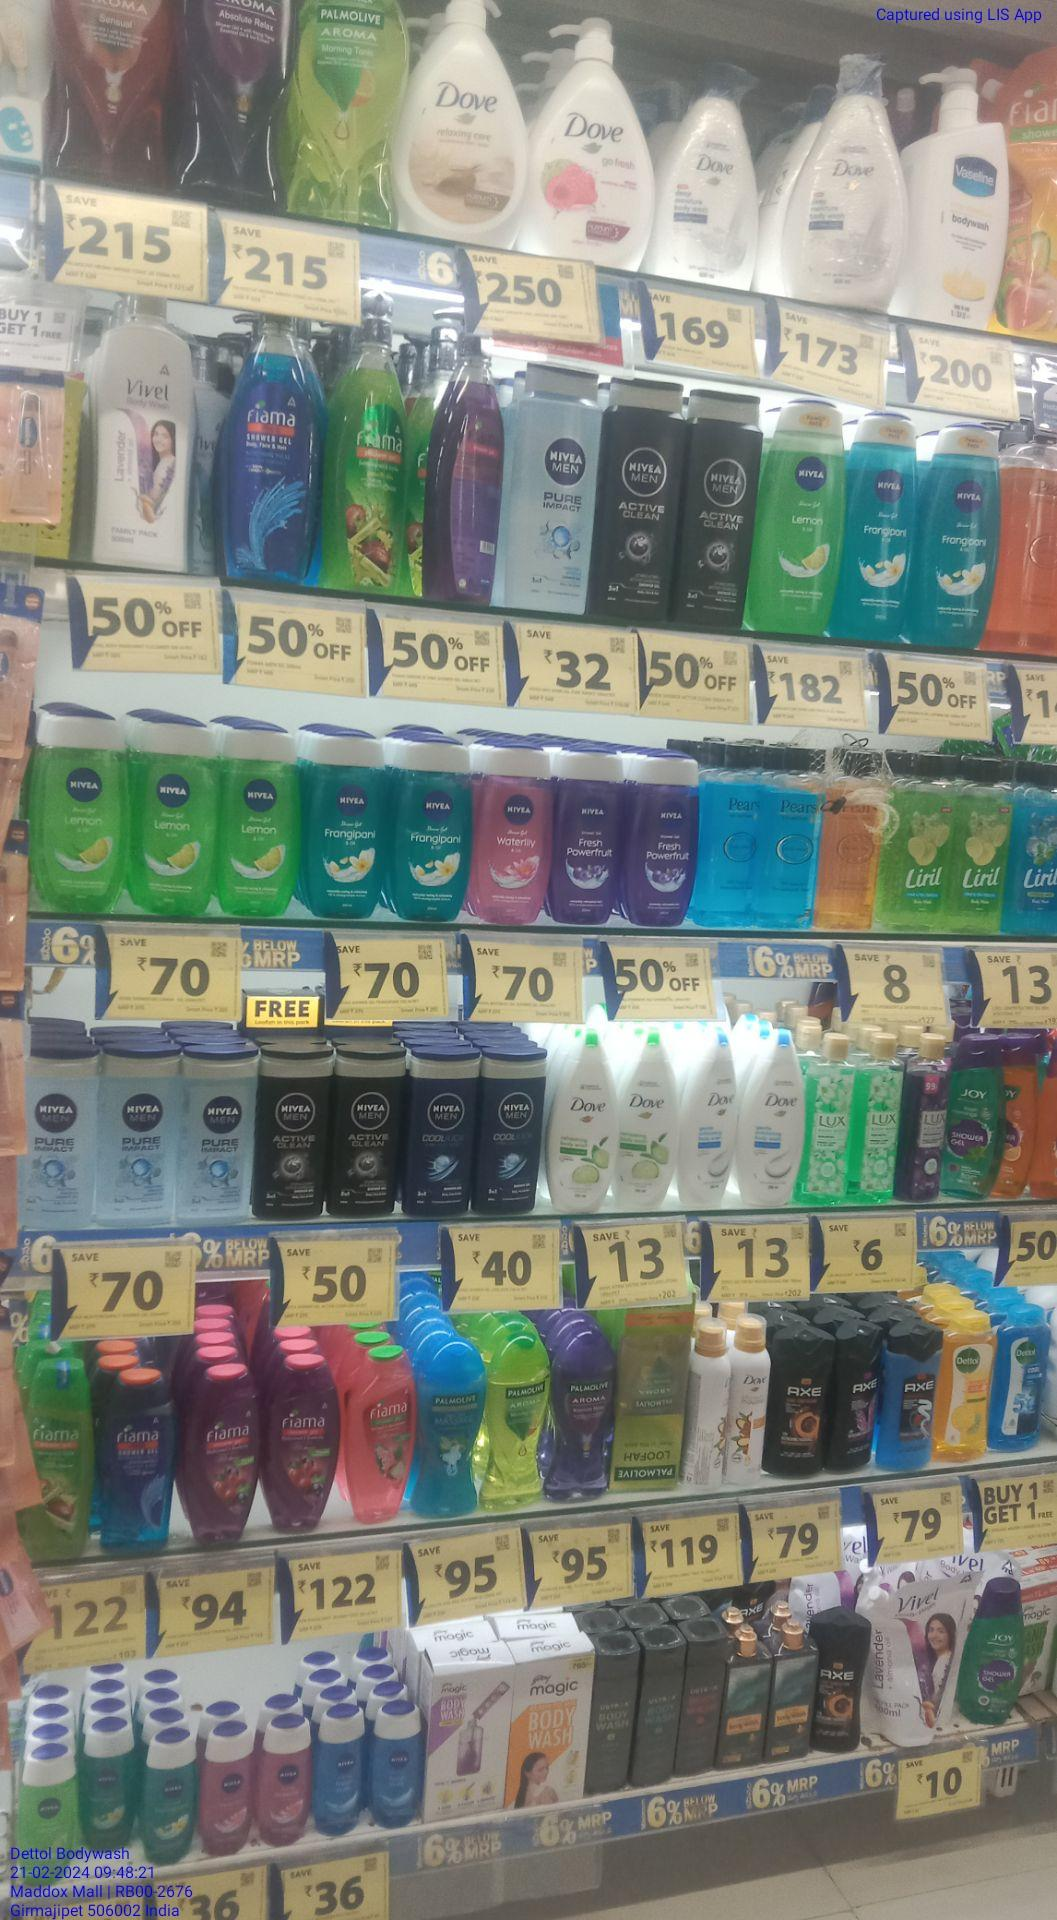Dettol_Bodywash_Cool: (993, 1311, 1049, 1451)
Dettol_Bodywash_Refresh: (939, 1313, 991, 1461)
Dove_Deep_Moisture_Body_Wash_250ML: (683, 1027, 738, 1209), (745, 1032, 801, 1207)
Dove_Refreshing_Body_Wash_250ML: (547, 1030, 617, 1216), (624, 1027, 678, 1211)
Fiama_Shower_Gel_Lemongrass_and_Jojoba_250ML: (21, 1363, 91, 1562)
Fiama_Shower_Gel_Patchouli_and_Macadamia_250ML: (348, 1351, 411, 1524)
Joy_Shower_Gel_Mint_and_Eucalyptus_250ML: (946, 1039, 1000, 1201)
Liril_Cooling_Mint_Body_Wash_250ML: (1011, 760, 1057, 939)
Liril_Lime_and_Tea_Tree_Oil_Body_Wash_250ML: (886, 759, 948, 928), (953, 759, 1004, 936)
Lux_Black_Orchid_Scent_and_Juniper_Oil_Body_Wash_245ML: (903, 1031, 941, 1203)
Lux_Body_Wash_Skin_Detox_Freesia_Scent_and_Alove_Vera_245ML: (853, 1034, 899, 1205), (806, 1041, 850, 1209)
Nivea_Shower_Gel_Frangipani_and_Oil_250ML: (920, 427, 1001, 648), (845, 407, 913, 635), (309, 730, 387, 919), (391, 732, 467, 919)
Nivea_Shower_Gel_Fresh_Powerfruit_250ML: (627, 756, 699, 924), (555, 751, 620, 927)
Nivea_Shower_Gel_Lemon_and_Oil_250ML: (34, 704, 120, 920), (129, 716, 219, 915), (767, 398, 836, 638), (224, 717, 302, 916)
Nivea_Shower_Gel_Waterlily_and_Oil_250ML: (473, 743, 549, 929)
Palmolive_Aroma_Moments_Feel_The_Massage_Shower_Gel_250ML: (419, 1343, 479, 1519)
Palmolive_Aroma_Morning_Tonic_Shower_Gel_250ML: (483, 1337, 548, 1510)
Palmolive_Aroma_Relax_250ML: (555, 1336, 612, 1501)
Pears_Pure_Glycerin_and_Mint_Extracts_Body_Wash_250ML: (704, 742, 760, 928), (765, 746, 817, 928)
